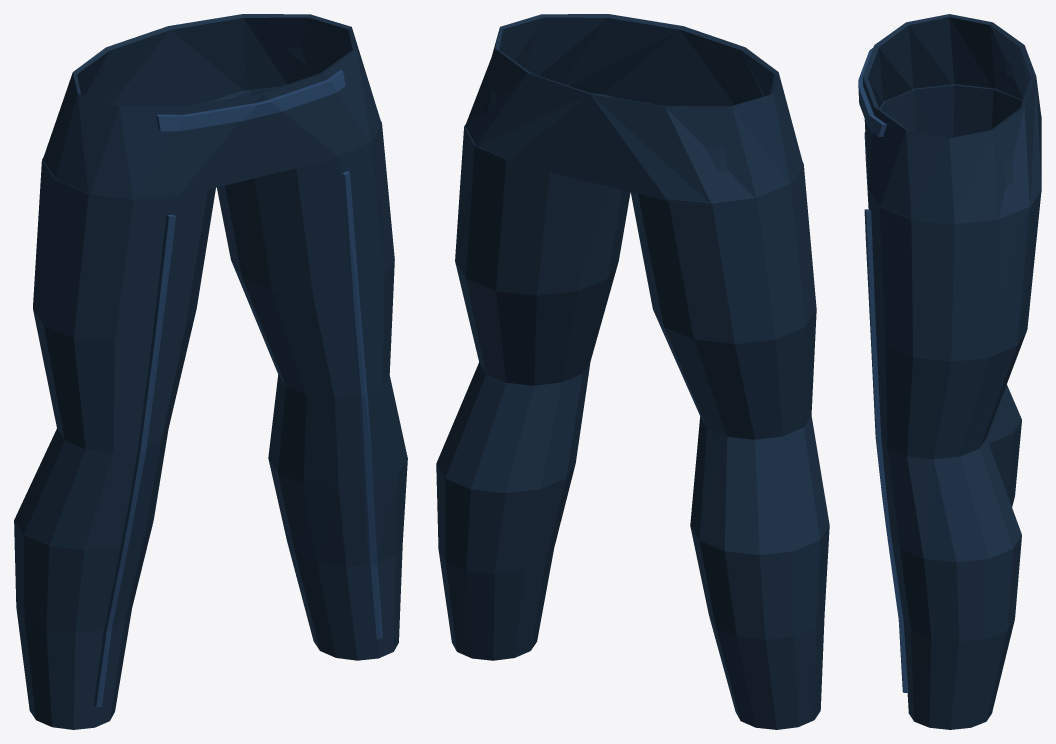
File: cloth_legs-male.glb
3 renders of one model, left to right at view 1: azimuth 30°, elevation 25°; view 2: azimuth 150°, elevation 25°; view 3: azimuth 270°, elevation 25°, orthographic. The views are drawn at different scales.
Visible parts, largest first — view 1: cloth trouser leg -1, cloth trouser leg 1, cloth trouser pelvis yoke, Trouser reinforced front seam -1, Trouser reinforced front seam 1, Trouser waist facing; view 2: cloth trouser leg -1, cloth trouser leg 1, cloth trouser pelvis yoke; view 3: cloth trouser leg 1, cloth trouser pelvis yoke, cloth trouser leg -1, Trouser reinforced front seam 1, Trouser waist facing.
Part boxes in pixels (x1=…): cloth trouser leg -1: x1=14, y1=157, x2=215, y2=729; cloth trouser leg 1: x1=214, y1=86, x2=407, y2=660; cloth trouser pelvis yoke: x1=42, y1=14, x2=381, y2=201; Trouser reinforced front seam -1: x1=93, y1=214, x2=175, y2=707; Trouser reinforced front seam 1: x1=342, y1=171, x2=382, y2=639; Trouser waist facing: x1=156, y1=70, x2=345, y2=131; cloth trouser leg -1: x1=630, y1=163, x2=829, y2=729; cloth trouser leg 1: x1=436, y1=93, x2=630, y2=660; cloth trouser pelvis yoke: x1=465, y1=14, x2=802, y2=205; cloth trouser leg 1: x1=868, y1=189, x2=1041, y2=729; cloth trouser pelvis yoke: x1=862, y1=14, x2=1041, y2=223; cloth trouser leg -1: x1=879, y1=84, x2=1041, y2=506; Trouser reinforced front seam 1: x1=864, y1=209, x2=908, y2=692; Trouser waist facing: x1=858, y1=48, x2=886, y2=136.
Bounding box in the file's own units: 2.27 × 3.57 × 1.03.
